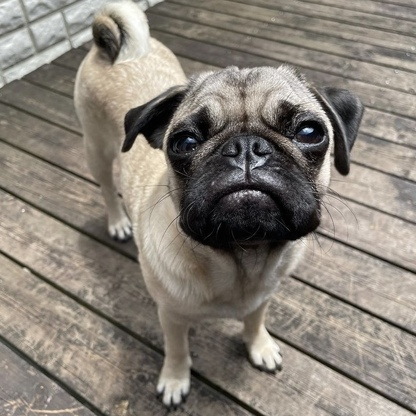Pug: (66, 1, 371, 416)
